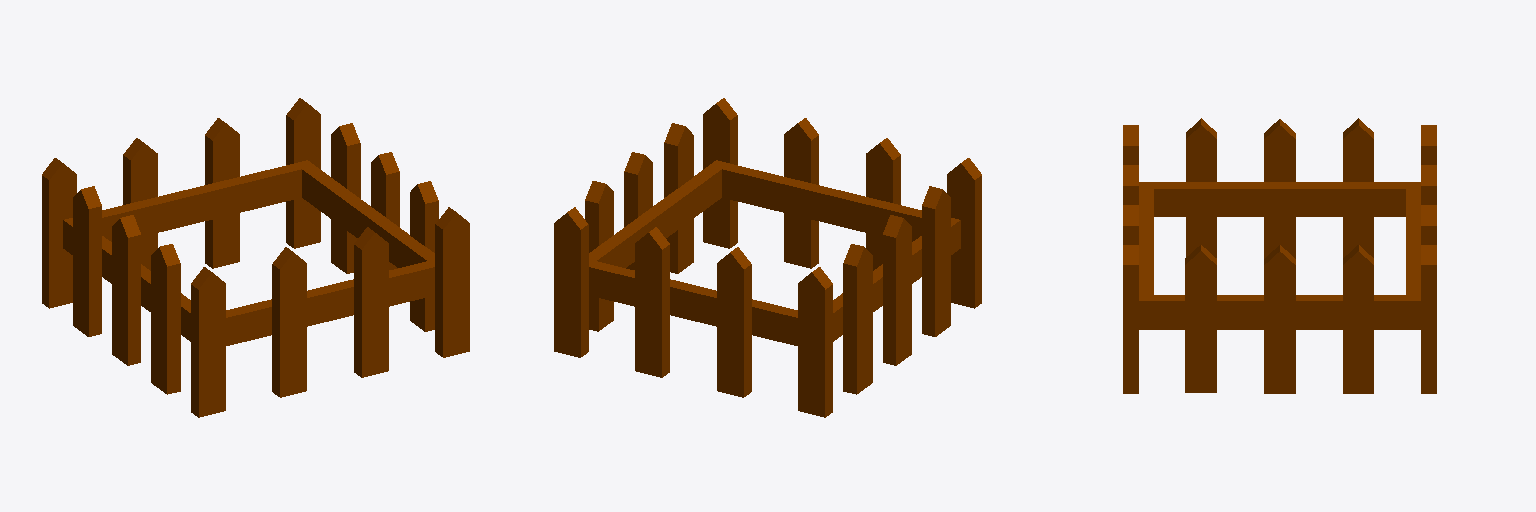
Rendered from fance.obj.
3 renders of one model, left to right at view 1: azimuth 30°, elevation 25°; view 2: azimuth 150°, elevation 25°; view 3: azimuth 270°, elevation 25°, orthographic.
Visible parts, largest first — view 1: Duplicate29, Box02, Duplicate05, Duplicate10, Duplicate03, Duplicate07, Duplicate30, Duplicate15, Duplicate20, Duplicate19, Duplicate17, Duplicate24 (+6 smaller); view 2: Box02, Duplicate29, Duplicate20, Duplicate24, Duplicate22, Duplicate26, Duplicate30, Duplicate19, Duplicate10, Duplicate15, Duplicate17, Duplicate05 (+6 smaller); view 3: Duplicate31, Duplicate30, Duplicate11, Duplicate01, Duplicate13, Duplicate17, Duplicate19, Duplicate15, Duplicate03, Duplicate26, Duplicate29, Box02 (+6 smaller).
Part boxes in pixels (x1,y1,x2,y2): Duplicate29: (102, 160, 314, 241); Box02: (226, 261, 434, 345); Duplicate05: (354, 227, 388, 377); Duplicate10: (191, 267, 225, 417); Duplicate03: (435, 207, 469, 357); Duplicate07: (272, 247, 306, 397); Duplicate30: (302, 166, 434, 267); Duplicate15: (151, 244, 180, 394); Duplicate20: (42, 158, 76, 308); Duplicate19: (73, 186, 101, 336); Duplicate17: (112, 215, 140, 365); Duplicate24: (205, 118, 239, 268); Box02: (722, 164, 960, 253); Duplicate29: (589, 260, 797, 345); Duplicate20: (798, 267, 832, 417); Duplicate24: (635, 227, 669, 377); Duplicate22: (717, 247, 751, 397); Duplicate26: (554, 207, 588, 357); Duplicate30: (589, 160, 729, 267); Duplicate19: (843, 244, 872, 394); Duplicate10: (947, 158, 981, 308); Duplicate15: (922, 186, 950, 336); Duplicate17: (883, 215, 911, 365); Duplicate05: (784, 118, 818, 268); Duplicate31: (1154, 182, 1420, 216); Duplicate30: (1139, 295, 1405, 329); Duplicate11: (1264, 245, 1295, 393); Duplicate01: (1185, 245, 1216, 392); Duplicate13: (1343, 245, 1373, 393); Duplicate17: (1264, 119, 1295, 258); Duplicate19: (1343, 118, 1373, 257); Duplicate15: (1186, 118, 1216, 257); Duplicate03: (1123, 245, 1138, 393); Duplicate26: (1421, 245, 1436, 393); Duplicate29: (1406, 189, 1420, 329); Box02: (1139, 182, 1153, 294).
Size of the model in its own units: 2 by 1 by 2.